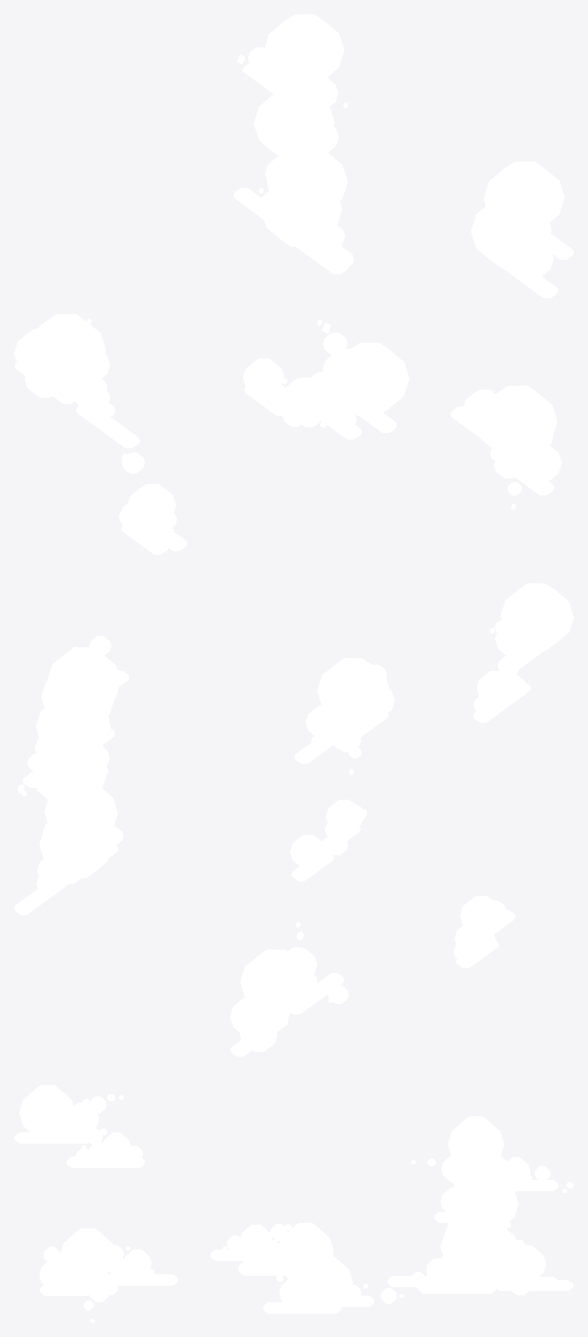
The model's file is clouds.glb.
The picture shows the model from 3 angles, top to bottom: view 1: azimuth 30°, elevation 25°; view 2: azimuth 150°, elevation 25°; view 3: azimuth 270°, elevation 25°; orthographic projection. The views are drawn at different scales.
Visible parts, largest first — view 1: sphere1_sep185, sphere1_sep220, sphere1_sep175, sphere1_sep200, sphere1_sep169, sphere1_sep120, sphere1_sep134, sphere1_sep144, sphere1_sep158, sphere1_sep75, sphere1_sep110, sphere1_sep152 (+11 smaller); view 2: sphere1_sep220, sphere1_sep200, sphere1_sep120, sphere1_sep185, sphere1_sep134, sphere1_sep158, sphere1_sep169, sphere1_sep122, sphere1_sep110, sphere1_sep175, sphere1_sep10, sphere1_sep186 (+10 smaller); view 3: sphere1_sep110, sphere1_sep75, sphere1_sep65, sphere1_sep90, sphere1_sep24, sphere1_sep34, sphere1_sep59, sphere1_sep48, sphere1_sep105, sphere1_sep76, sphere1_sep92, sphere1_sep42 (+19 smaller).
Boxes of the visible parts, <box> form: sphere1_sep185: <box>328,343,387,415</box>; sphere1_sep220: <box>263,14,322,87</box>; sphere1_sep175: <box>483,162,542,234</box>; sphere1_sep200: <box>476,386,534,458</box>; sphere1_sep169: <box>267,153,325,216</box>; sphere1_sep120: <box>25,314,81,387</box>; sphere1_sep134: <box>253,91,305,157</box>; sphere1_sep144: <box>471,206,521,267</box>; sphere1_sep158: <box>261,191,319,246</box>; sphere1_sep75: <box>360,342,409,413</box>; sphere1_sep110: <box>295,14,344,78</box>; sphere1_sep152: <box>507,240,542,280</box>; sphere1_sep220: <box>61,665,114,730</box>; sphere1_sep200: <box>338,658,390,724</box>; sphere1_sep120: <box>261,949,313,1015</box>; sphere1_sep185: <box>521,583,573,649</box>; sphere1_sep134: <box>52,748,105,809</box>; sphere1_sep158: <box>59,831,112,878</box>; sphere1_sep169: <box>65,788,117,838</box>; sphere1_sep122: <box>243,996,278,1039</box>; sphere1_sep110: <box>41,664,85,723</box>; sphere1_sep175: <box>74,647,120,697</box>; sphere1_sep10: <box>240,949,284,996</box>; sphere1_sep186: <box>505,619,537,658</box>; sphere1_sep110: <box>448,1119,503,1171</box>; sphere1_sep75: <box>19,1087,73,1140</box>; sphere1_sep65: <box>277,1225,333,1278</box>; sphere1_sep90: <box>60,1230,113,1283</box>; sphere1_sep24: <box>464,1181,518,1231</box>; sphere1_sep34: <box>299,1258,352,1310</box>; sphere1_sep59: <box>442,1220,496,1266</box>; sphere1_sep48: <box>452,1250,506,1292</box>; sphere1_sep105: <box>39,1260,71,1291</box>; sphere1_sep76: <box>70,1103,98,1135</box>; sphere1_sep92: <box>103,1275,178,1285</box>; sphere1_sep42: <box>279,1279,308,1309</box>.
Bounding box in the file's own units: 45.71 × 34.32 × 64.9.
Materials: 1 (1 with a texture image).
